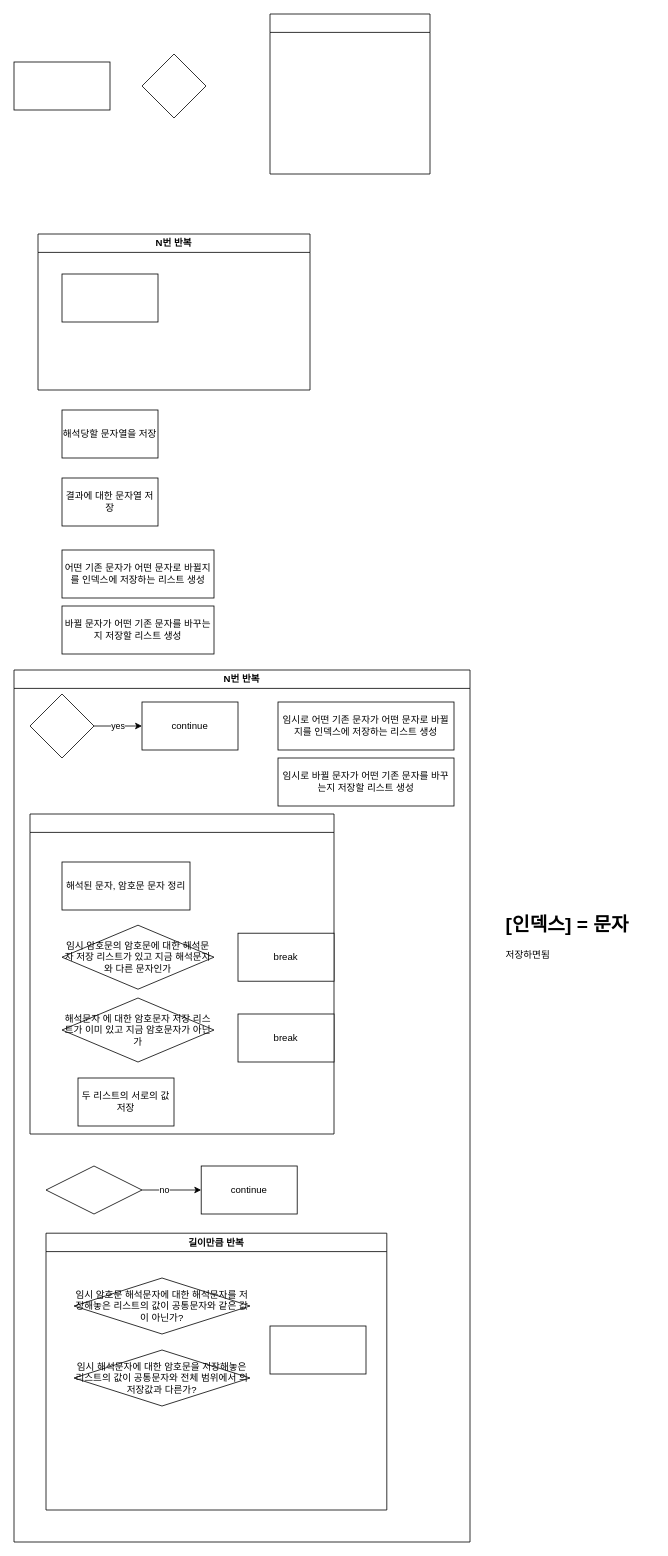
Some shapes in this 668 by 1556 pixel diagram are drawn without their labels. The box of each missing label's shape, as (x1, y1, x2, y2) in pixels:
break된 것이 아닌가: (45, 1165, 142, 1214)
Vertical Container: (269, 13, 430, 174)
문자열을 i번 칸에 저장: (61, 273, 158, 322)
해당 값 ? 로 초기화: (269, 1325, 366, 1374)
해석된 문자열과 암호문의 길이가 다른가 ?: (29, 693, 94, 758)
해석된 문자열의 길이만큼 반복: (29, 813, 334, 1134)
